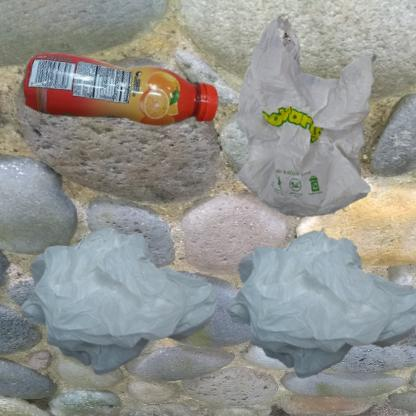bolsa: (213, 10, 416, 249), (10, 213, 239, 404), (213, 213, 416, 416)
botella: (10, 10, 284, 220)
